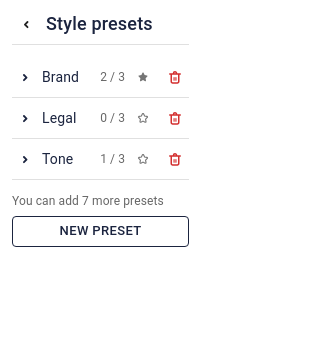
Test case: a row, expanded (contract: one line per language the space has — every one, whether the preset covers it or not, in the order `languages` gives them, each a but › shows a line for every language the space has
Click the button named "Expand Brand — 2 of 3 languages configured" at x=47, y=77, box [12,60,81,94]
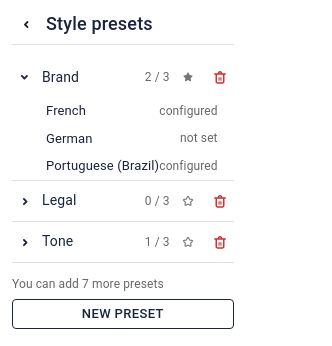
Expected: the number of buttons named "Brand — " is 3, [46,103,218,118]; [46,130,218,146]; [46,158,218,173]
